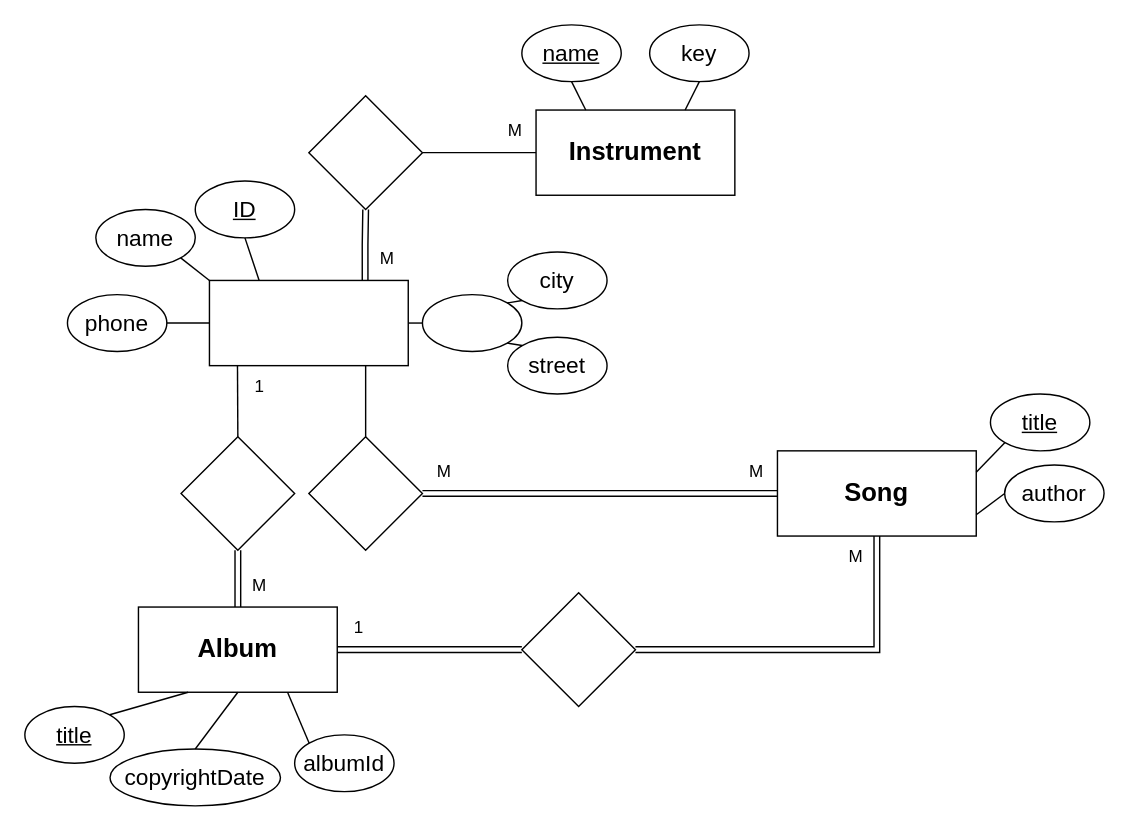
Image size: 1129x831. Some labels were removed from this diagram. Each missing label, with the centre of its shape:
"address" belongs at point (471, 322).
"Has" belongs at point (577, 648).
"Musician" belongs at point (308, 322).
"Performs" belongs at point (364, 492).
"Plays" belongs at point (364, 151).
"Produces" belongs at point (237, 492).
